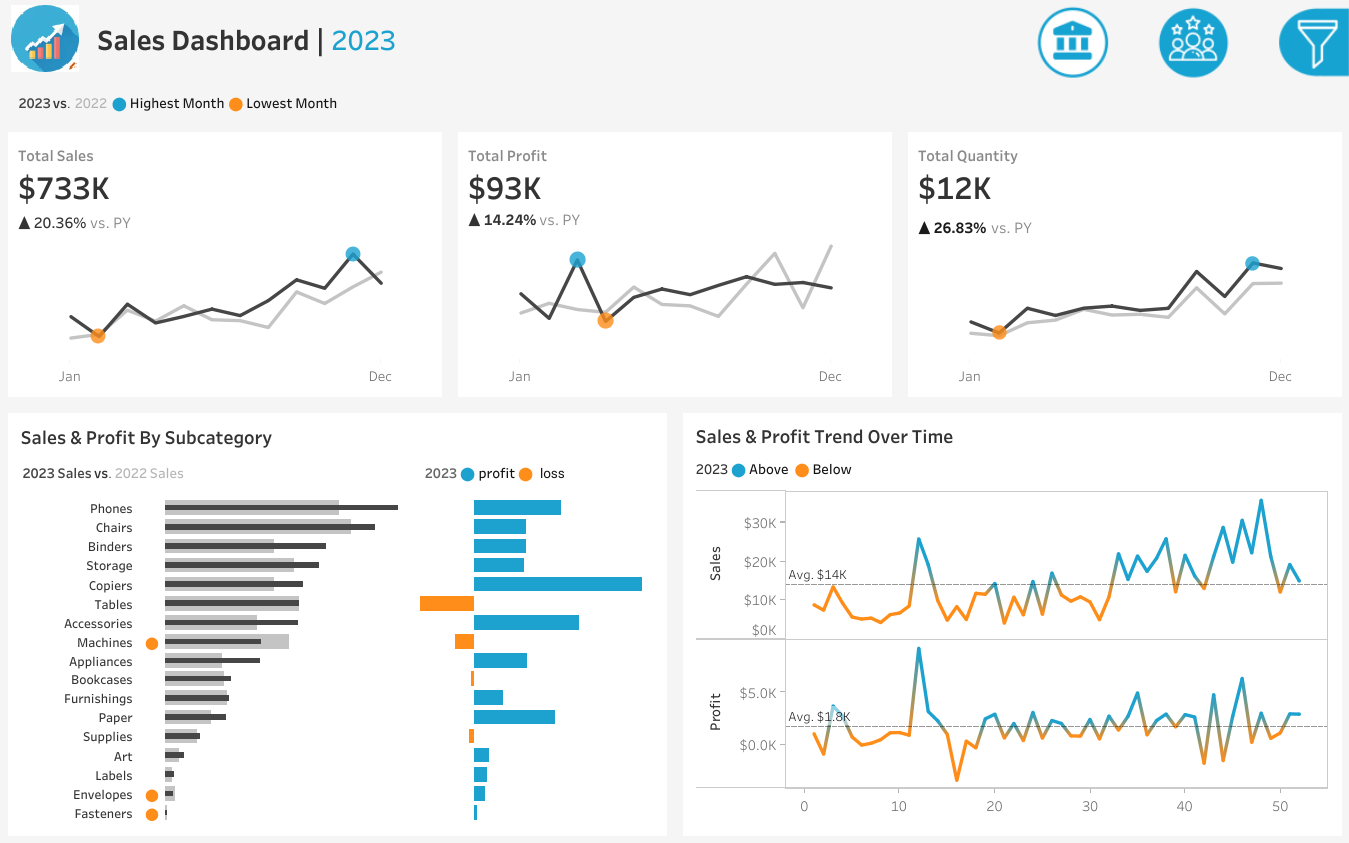

This screenshot's page, from the dashboard's own definition file:
{"tool":"tableau","page":{"name":"Sales Dashboard","canvas":[1200,750],"ordinal":1},"visuals":[{"type":"image","param":"Image/craiyon_094129_Business_growth_icon.png","box":[0,0,80,68]},{"type":"text","box":[80,0,795,68]},{"type":"dashboard-object","box":[901,2,107,72]},{"type":"dashboard-object","box":[1008,2,106,72]},{"type":"blank","box":[921,6,273,80]},{"type":"worksheet","title":"KPI","mark":"Automatic","box":[0,68,1200,47]},{"type":"text","box":[921,86,273,41]},{"type":"worksheet","title":"SALES","mark":"Automatic","rows":["Calculation_776308009526267908"],"cols":["Order Date"],"box":[0,115,400,245]},{"type":"worksheet","title":"PROFIT","mark":"Automatic","rows":["Calculation_776308009738231823"],"cols":["Order Date"],"box":[400,115,400,245]},{"type":"worksheet","title":"QUANTITY","mark":"Automatic","rows":["Calculation_776308009915949078"],"cols":["Order Date"],"box":[800,115,400,245]},{"type":"parameter","param":"[Parameters].[Parameter 1]","box":[921,127,273,71]},{"type":"text","box":[921,198,273,33]},{"type":"filter","title":"SALES","param":"[federated.1764sfg0756ik61bb0jh71vi3x3n].[none:Category:nk]","box":[921,231,273,70]},{"type":"filter","title":"SALES","param":"[federated.1764sfg0756ik61bb0jh71vi3x3n].[none:Sub-Category:nk]","box":[921,301,273,70]},{"type":"blank","box":[921,371,273,32]},{"type":"text","box":[12,372,576,32]},{"type":"text","box":[612,372,576,41]},{"type":"text","box":[921,403,273,33]},{"type":"worksheet","title":"Subcategory Legend","mark":"Automatic","box":[12,404,359,32]},{"type":"text","box":[371,404,217,32]},{"type":"text","box":[612,413,576,33]},{"type":"worksheet","title":"Subcategory Comparison","mark":"Bar","rows":["Sub-Category","Calculation_776308009955754009"],"cols":["CY sales (copy)_776308009309151233","Calculation_776308009308127232","Calculation_776308009659731979"],"box":[12,436,576,301.9]},{"type":"filter","title":"PROFIT","param":"[federated.1764sfg0756ik61bb0jh71vi3x3n].[none:Region:nk]","box":[921,436,273,70]},{"type":"worksheet","title":"weekly trends","mark":"Line","rows":["Calculation_776308009308127232","Calculation_776308009659731979"],"cols":["Order Date"],"box":[612,446,576,292]},{"type":"filter","title":"SALES","param":"[federated.1764sfg0756ik61bb0jh71vi3x3n].[none:State:nk]","box":[921,506,273,70]},{"type":"filter","title":"SALES","param":"[federated.1764sfg0756ik61bb0jh71vi3x3n].[none:City:nk]","box":[921,576,273,70]}]}

Visuals, with their boxes in screenshot pixels (x1, y1, x2, y2), scaled from the page's 1200x750 canvas onto the 1349x843 screenshot:
image: [left=0, top=0, right=90, bottom=76]
text: [left=90, top=0, right=984, bottom=76]
dashboard-object: [left=1013, top=2, right=1133, bottom=83]
dashboard-object: [left=1133, top=2, right=1252, bottom=83]
blank: [left=1035, top=7, right=1342, bottom=97]
"KPI" worksheet: [left=0, top=76, right=1348, bottom=129]
text: [left=1035, top=97, right=1342, bottom=143]
"SALES" worksheet: [left=0, top=129, right=450, bottom=405]
"PROFIT" worksheet: [left=450, top=129, right=899, bottom=405]
"QUANTITY" worksheet: [left=899, top=129, right=1348, bottom=405]
parameter: [left=1035, top=143, right=1342, bottom=223]
text: [left=1035, top=223, right=1342, bottom=260]
"SALES" filter: [left=1035, top=260, right=1342, bottom=338]
"SALES" filter: [left=1035, top=338, right=1342, bottom=417]
blank: [left=1035, top=417, right=1342, bottom=453]
text: [left=13, top=418, right=661, bottom=454]
text: [left=688, top=418, right=1336, bottom=464]
text: [left=1035, top=453, right=1342, bottom=490]
"Subcategory Legend" worksheet: [left=13, top=454, right=417, bottom=490]
text: [left=417, top=454, right=661, bottom=490]
text: [left=688, top=464, right=1336, bottom=501]
"Subcategory Comparison" worksheet (Bar marks): [left=13, top=490, right=661, bottom=829]
"PROFIT" filter: [left=1035, top=490, right=1342, bottom=569]
"weekly trends" worksheet (Line marks): [left=688, top=501, right=1336, bottom=830]
"SALES" filter: [left=1035, top=569, right=1342, bottom=647]
"SALES" filter: [left=1035, top=647, right=1342, bottom=726]
